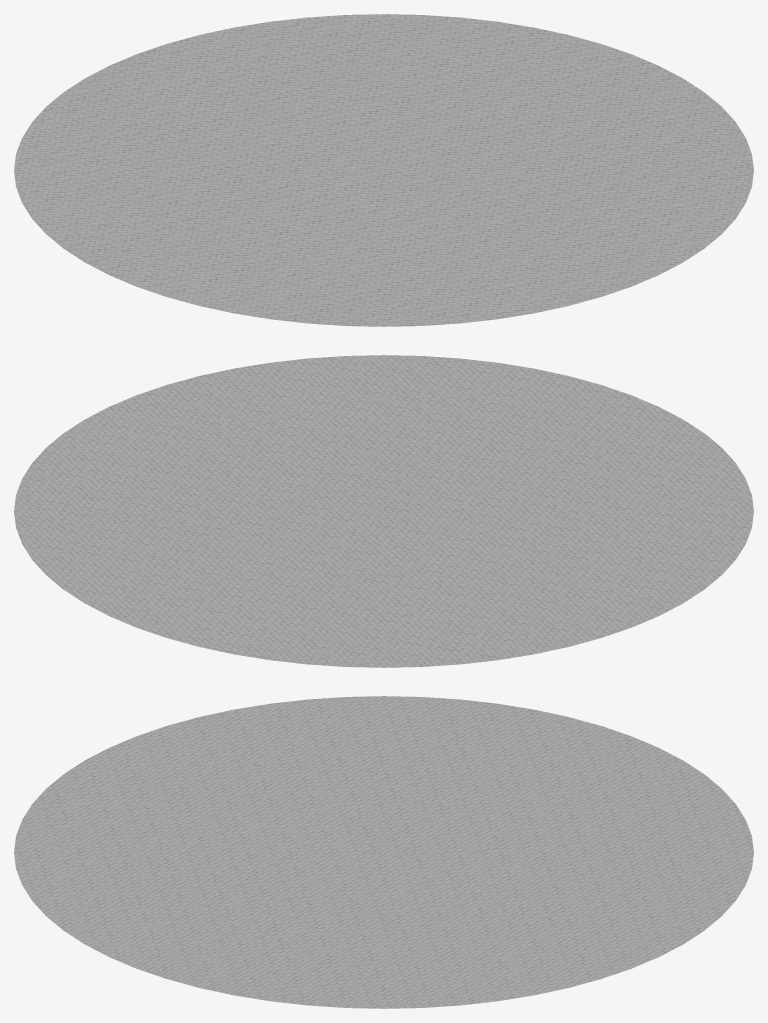
File: 2dgameground.fbx
3 views of the same model, one above another, from view 1: azimuth 30°, elevation 25°; view 2: azimuth 150°, elevation 25°; view 3: azimuth 270°, elevation 25° (orthographic).
Visible parts, largest first — view 1: Circle; view 2: Circle; view 3: Circle.
Part boxes in pixels (left/top/right/bottom): Circle: left=14, top=14, right=753, bottom=326; Circle: left=14, top=355, right=753, bottom=667; Circle: left=14, top=696, right=753, bottom=1008.
Size of the model in its own units: 200 by 3.26e-05 by 200.
1 material, 1 textured.
